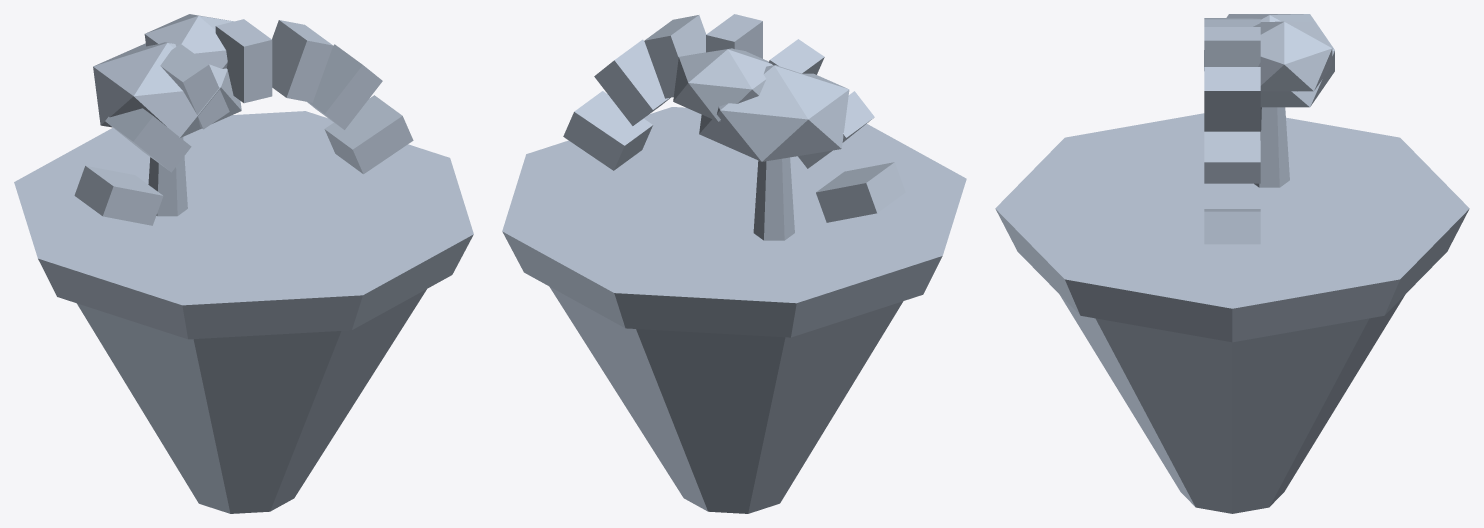
The model's file is distant_island_spire.glb.
3 views of the same model, side by side, from view 1: azimuth 30°, elevation 25°; view 2: azimuth 150°, elevation 25°; view 3: azimuth 270°, elevation 25° (orthographic).
Visible parts, largest first — view 1: SilW1; view 2: SilW1; view 3: SilW1.
Part boxes in pixels (box(x1,y1,x2,y2)): SilW1: box(14, 14, 473, 513); SilW1: box(502, 14, 966, 513); SilW1: box(995, 14, 1469, 513).
Size of the model in its own units: 32 by 34.3 by 32.
